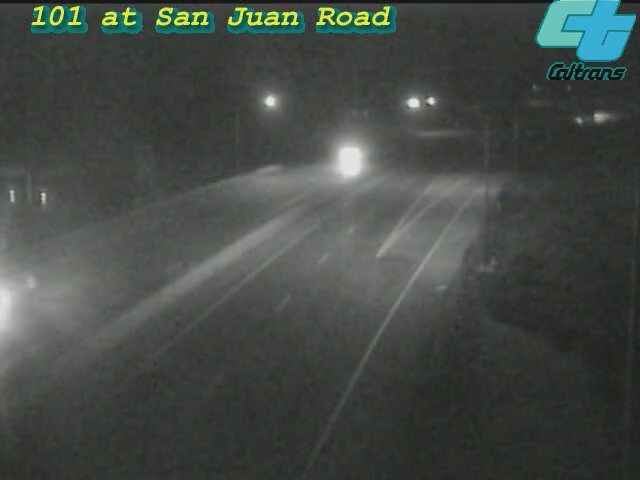vehicle: (307, 121, 387, 201), (1, 257, 45, 337), (578, 91, 628, 141)
